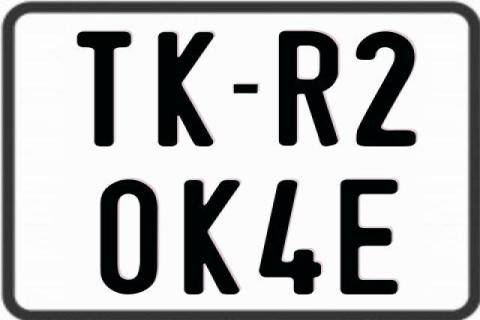0: (356, 31, 421, 151), (256, 180, 324, 294), (98, 177, 162, 297)
E: (339, 180, 397, 298)
K: (157, 32, 216, 150), (184, 180, 242, 298)
R: (279, 30, 340, 146)
T: (74, 30, 133, 146)
